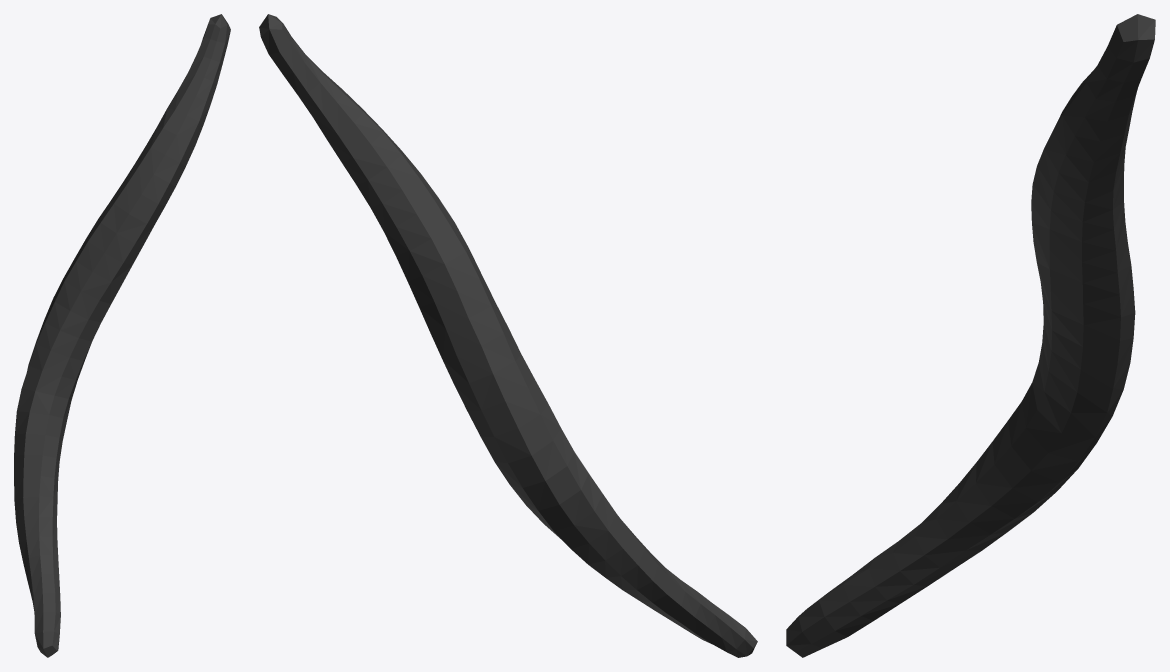
File: styloauricularis.glb
3 views of the same model, side by side, from view 1: azimuth 30°, elevation 25°; view 2: azimuth 150°, elevation 25°; view 3: azimuth 270°, elevation 25° (orthographic). The views are drawn at different scales.
Visible parts, largest first — view 1: styloauricularis; view 2: styloauricularis; view 3: styloauricularis.
Boxes of the visible parts, x1=… form: styloauricularis: x1=14, y1=14, x2=230, y2=657; styloauricularis: x1=259, y1=14, x2=757, y2=657; styloauricularis: x1=786, y1=14, x2=1155, y2=657.
Size of the model in its own units: 0.261 by 0.4381 by 0.1691.
1 material, 1 textured.
